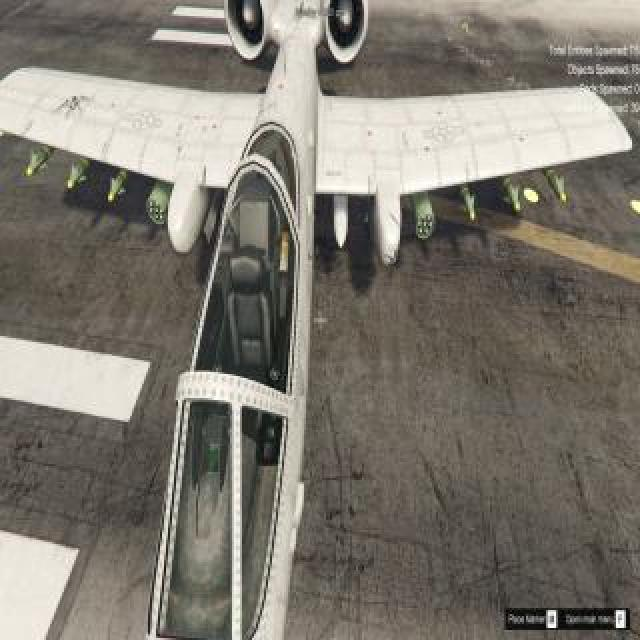crack: (423, 146, 431, 154), (176, 147, 184, 153), (196, 113, 202, 121), (520, 136, 524, 144), (438, 109, 442, 117), (112, 103, 116, 109), (261, 110, 267, 114), (299, 62, 303, 66), (268, 108, 272, 112), (271, 104, 275, 108), (275, 30, 279, 34), (277, 33, 281, 37), (277, 39, 281, 43)
dent: (69, 105, 76, 112), (82, 98, 91, 103), (73, 95, 78, 103)
